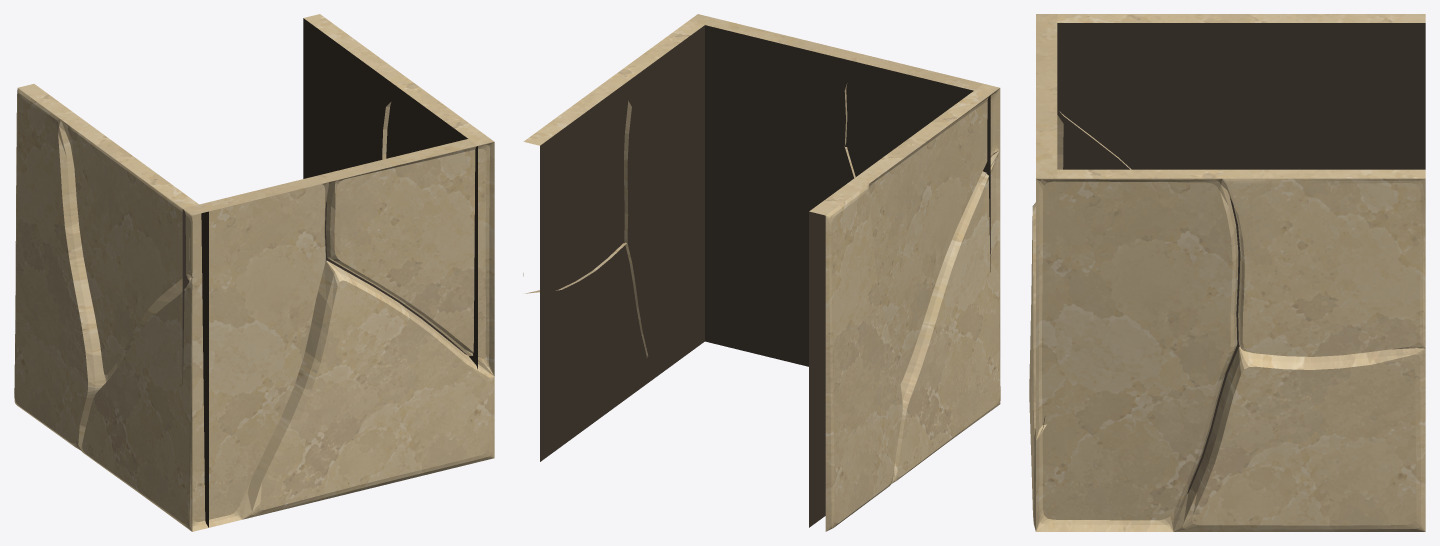
Rendered from ground_square_end_09.glb.
The picture shows the model from 3 angles, left to right: view 1: azimuth 30°, elevation 25°; view 2: azimuth 150°, elevation 25°; view 3: azimuth 270°, elevation 25°; orthographic projection. The views are drawn at different scales.
Parts seen in each view (by area): view 1: GroundSquareEnd09_Body; view 2: GroundSquareEnd09_Body; view 3: GroundSquareEnd09_Body.
Part boxes in pixels (x1,y1,x2,y2): GroundSquareEnd09_Body: (14, 14, 494, 531); GroundSquareEnd09_Body: (523, 14, 1000, 531); GroundSquareEnd09_Body: (1029, 14, 1425, 531).
Size of the model in its own units: 1.04 by 1 by 1.02.
Materials: 11 (10 with a texture image).
